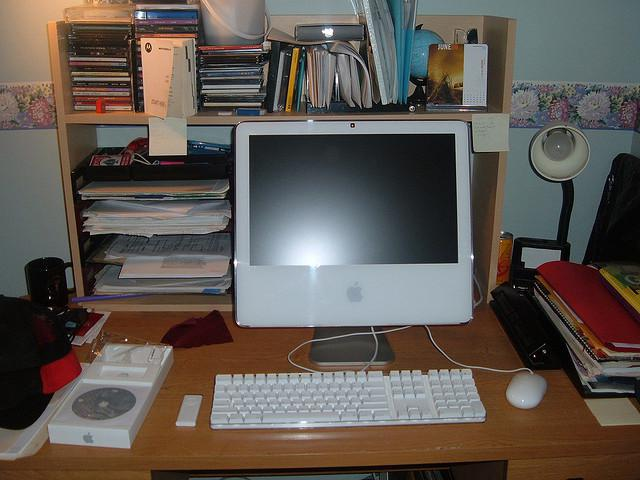tv: (238, 124, 478, 376)
